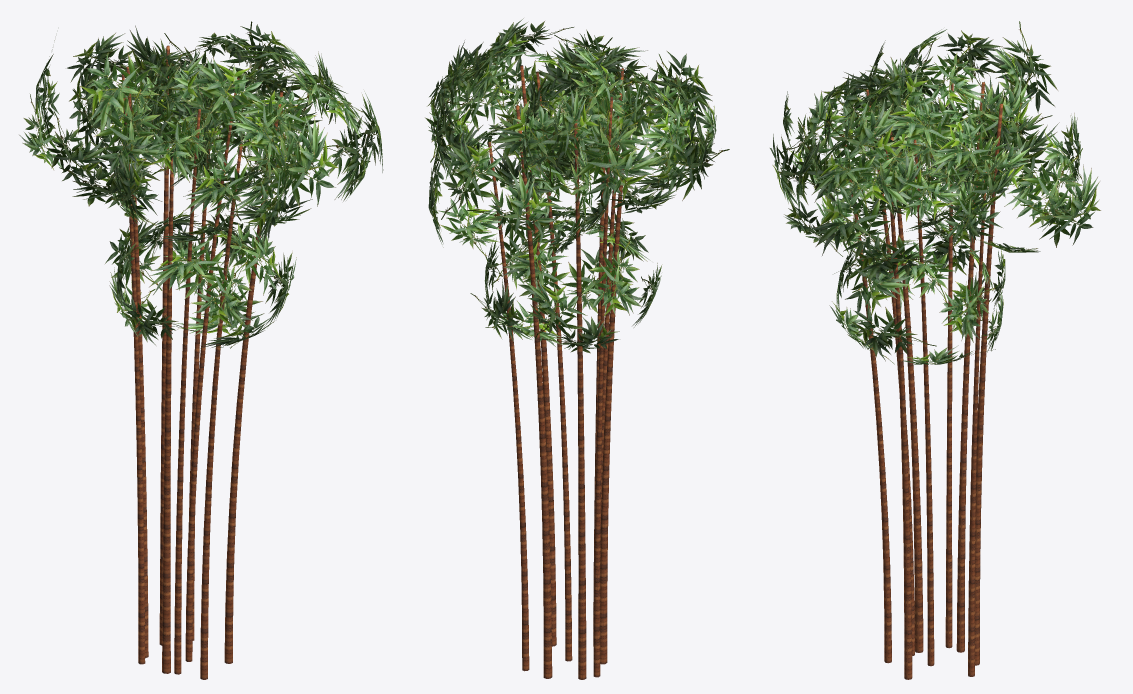
The model's file is tree_bamboo_clump.glb.
3 views of the same model, side by side, from view 1: azimuth 30°, elevation 25°; view 2: azimuth 150°, elevation 25°; view 3: azimuth 270°, elevation 25° (orthographic). The views are drawn at different scales.
Parts seen in each view (by area): view 1: bamboo_canopy, bamboo_culms; view 2: bamboo_canopy, bamboo_culms; view 3: bamboo_canopy, bamboo_culms.
Part boxes in pixels (x1,y1,x2,y2): bamboo_canopy: [19, 21, 383, 348]; bamboo_culms: [121, 45, 283, 679]; bamboo_canopy: [425, 18, 729, 353]; bamboo_culms: [488, 65, 623, 679]; bamboo_canopy: [770, 21, 1100, 364]; bamboo_culms: [843, 68, 1002, 679].
Size of the model in its own units: 5.52 by 10.69 by 5.63.
Materials: 2 (2 with a texture image).
